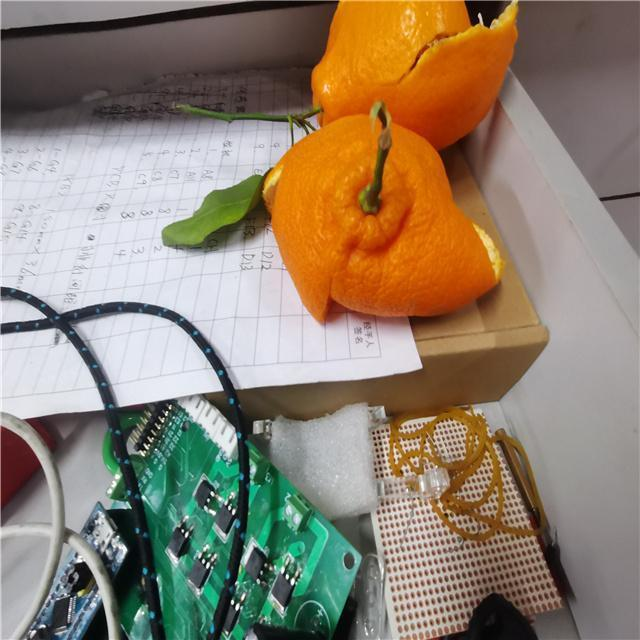orange peel: (266, 110, 514, 322), (310, 0, 522, 151)
